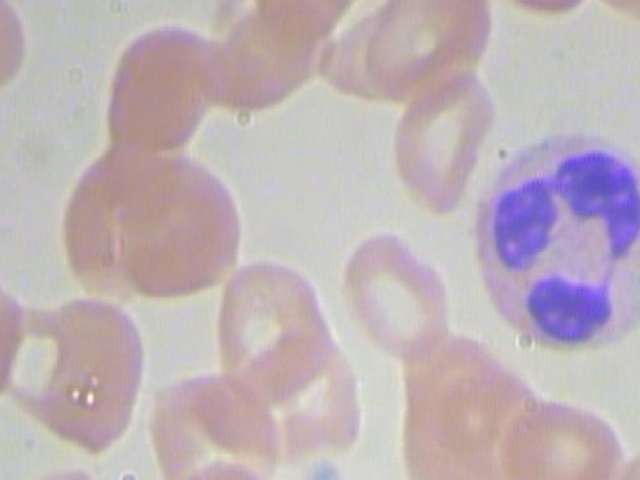Platelets: (295, 452, 348, 480)
RBC: (100, 154, 248, 302), (32, 294, 148, 456), (96, 17, 221, 165), (382, 61, 498, 216), (337, 225, 457, 359), (142, 367, 283, 480), (245, 331, 365, 461), (215, 255, 327, 388), (212, 0, 332, 121), (502, 381, 629, 480), (484, 0, 604, 15), (607, 436, 640, 480)
WBC: (457, 133, 640, 352)
